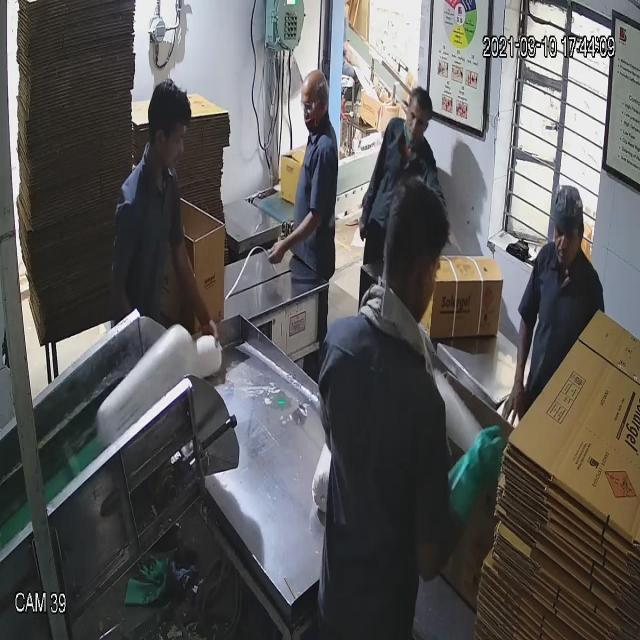No_Gloves: (40, 60, 522, 472)
